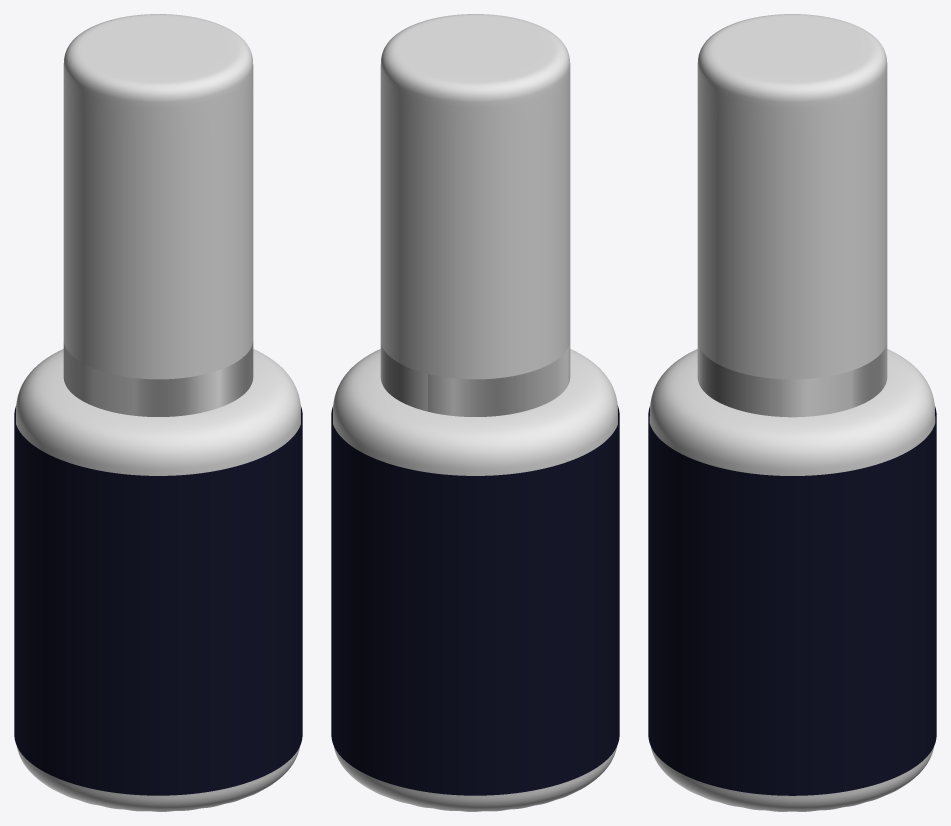
Rendered from cosmetic2.fbx.
3 views of the same model, side by side, from view 1: azimuth 30°, elevation 25°; view 2: azimuth 150°, elevation 25°; view 3: azimuth 270°, elevation 25° (orthographic).
Visible parts, largest first — view 1: Cylinder.010, Cylinder.004, Serum ( cosmetics ); view 2: Cylinder.010, Cylinder.004, Serum ( cosmetics ); view 3: Cylinder.010, Cylinder.004, Serum ( cosmetics ).
Boxes of the visible parts, x1,y1,x2,y2 form: Cylinder.010: (14, 406, 302, 795); Cylinder.004: (63, 14, 253, 416); Serum ( cosmetics ): (16, 349, 300, 811); Cylinder.010: (331, 406, 619, 795); Cylinder.004: (380, 14, 570, 416); Serum ( cosmetics ): (333, 349, 617, 811); Cylinder.010: (648, 406, 936, 795); Cylinder.004: (697, 14, 887, 417); Serum ( cosmetics ): (649, 349, 935, 811).
Bounding box in the file's own units: 5.37 × 14.58 × 5.37.
